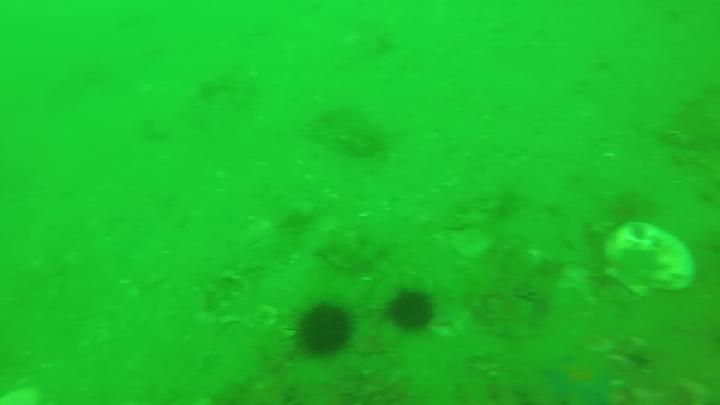echinus: (285, 309, 361, 365), (389, 294, 432, 335)
scallop: (599, 225, 698, 296)
